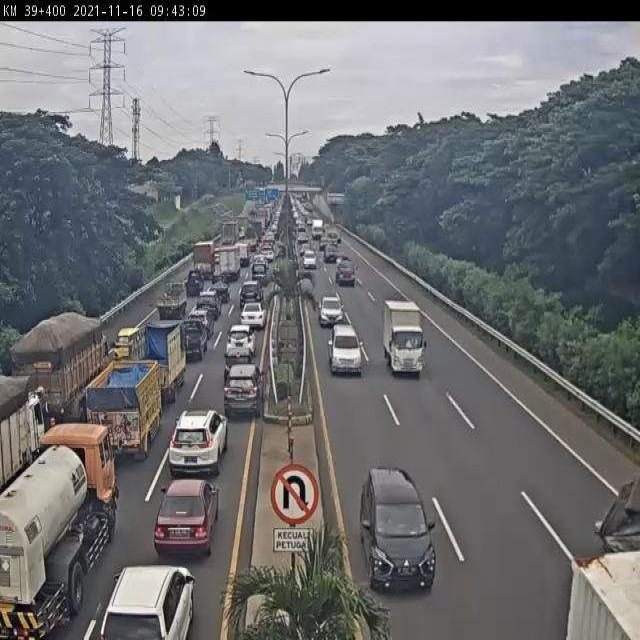car: (359, 468, 436, 592), (98, 565, 194, 640), (153, 477, 220, 559), (169, 409, 229, 480), (223, 365, 266, 420), (328, 324, 363, 373), (224, 324, 257, 360), (182, 319, 208, 361), (224, 347, 255, 381), (114, 327, 143, 362), (319, 296, 344, 327), (239, 301, 267, 328), (238, 280, 263, 308), (188, 309, 213, 336), (196, 292, 222, 317), (184, 269, 205, 296), (209, 274, 229, 302)
truck-l-: (0, 421, 117, 640), (12, 315, 110, 424)
truck-m-: (0, 378, 45, 498)
truck-s-: (86, 359, 163, 464), (128, 320, 187, 400), (383, 302, 425, 378), (156, 283, 187, 321), (334, 256, 356, 285)
